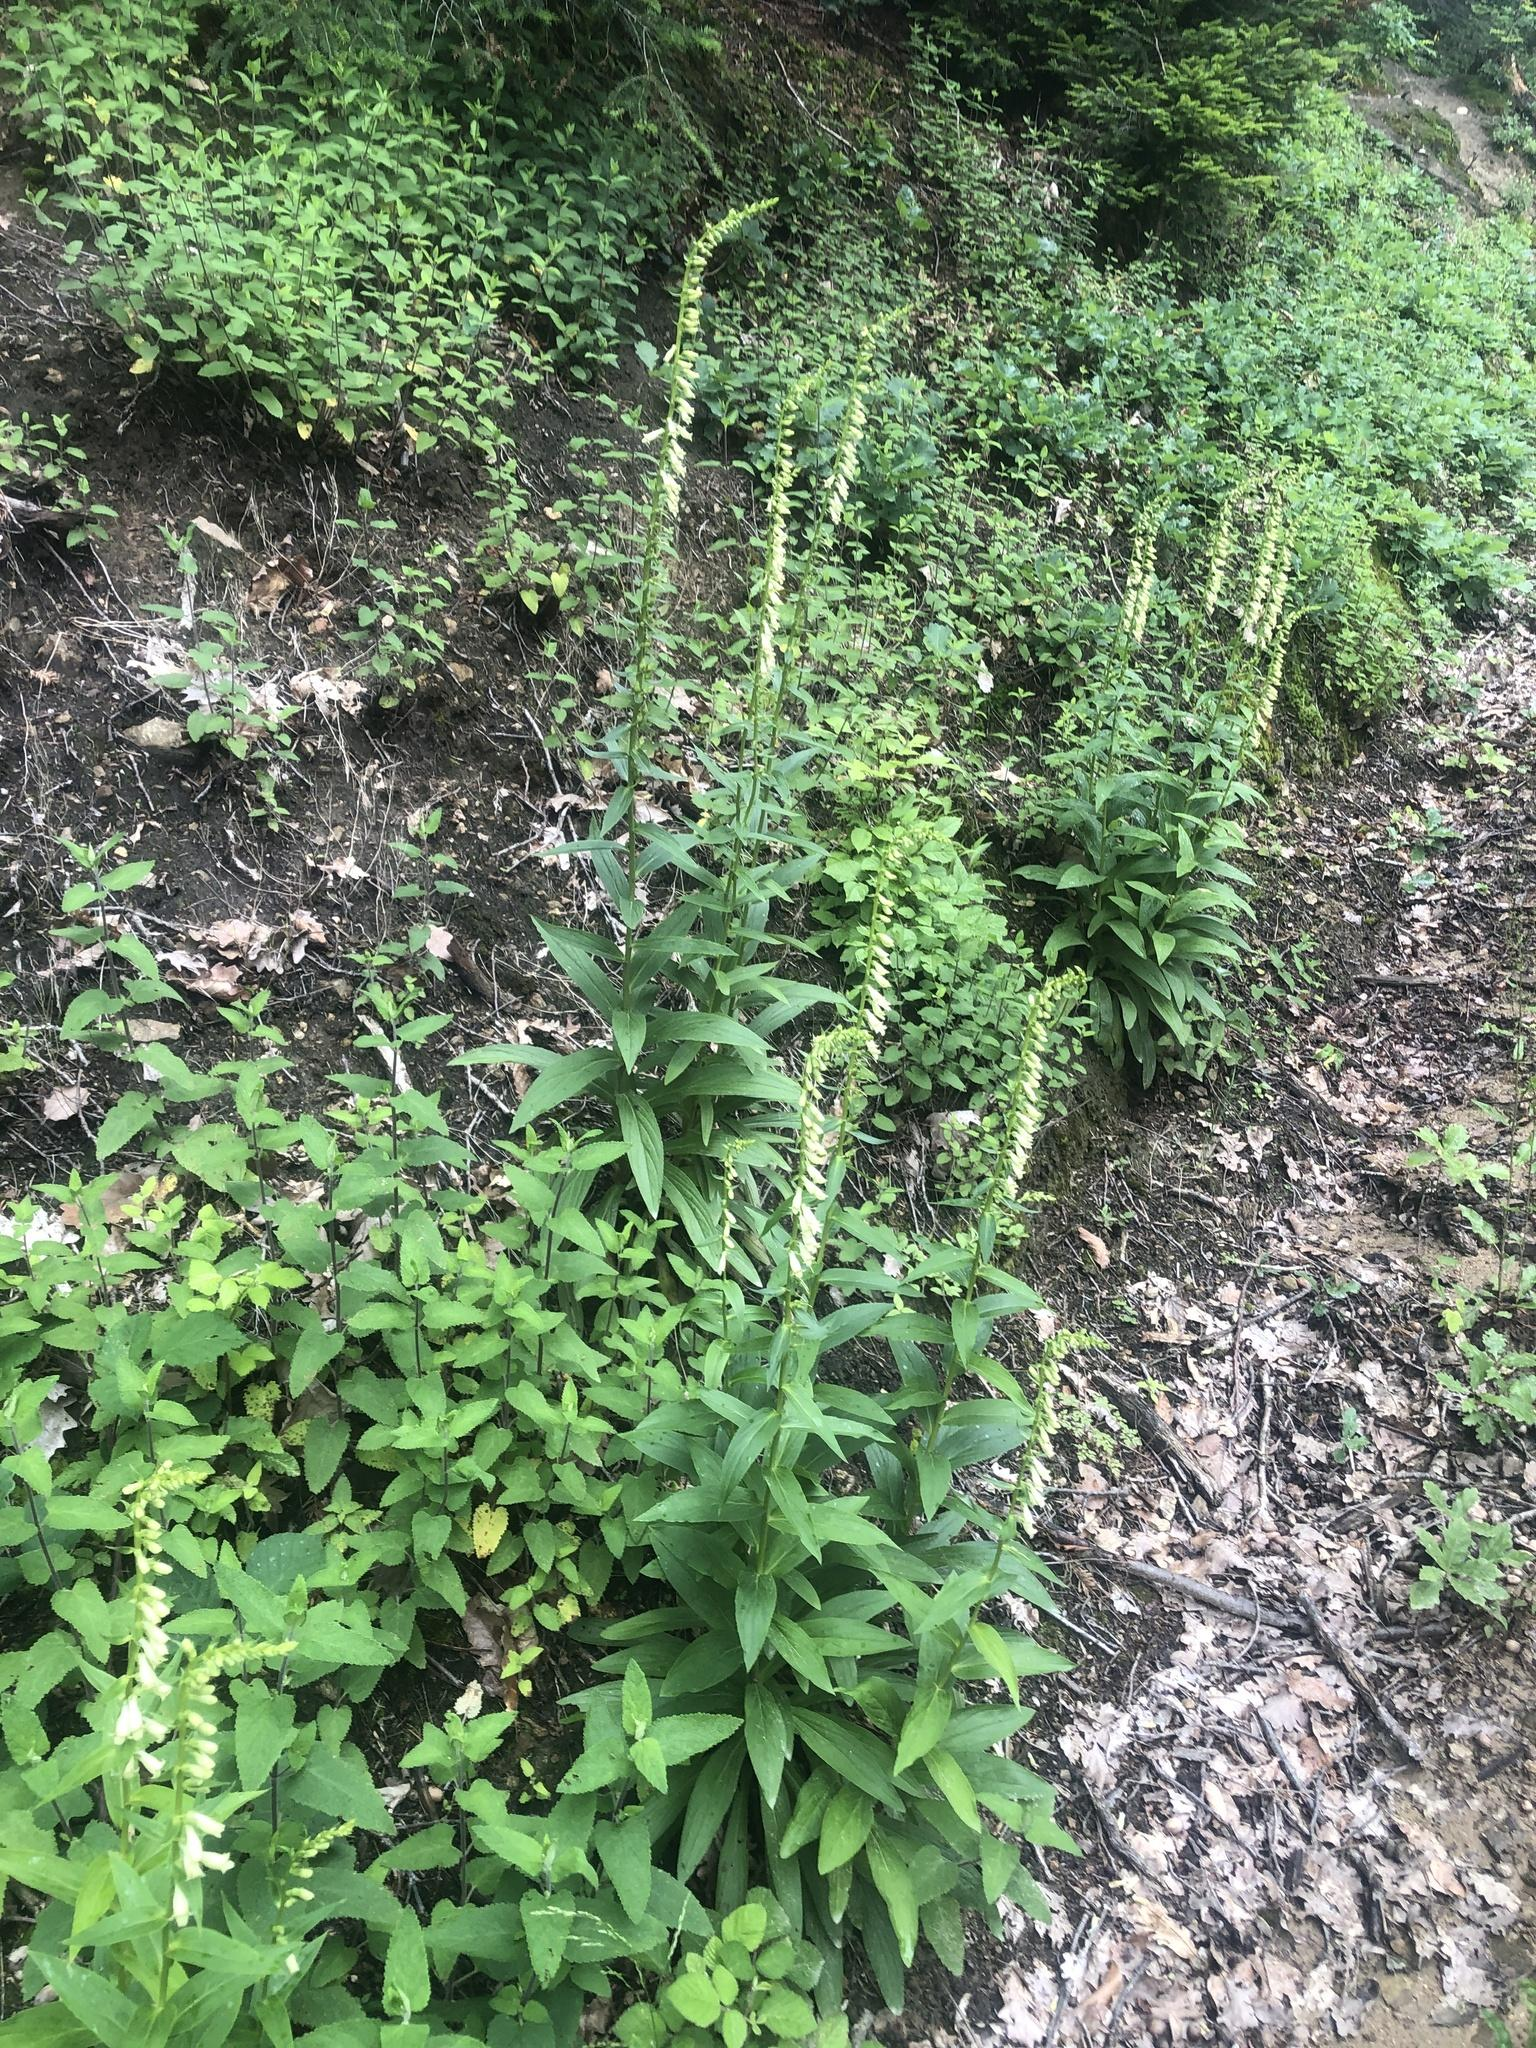Digitalis L: (515, 189, 812, 1198), (24, 1458, 319, 2048), (657, 1039, 874, 1838), (949, 1314, 1102, 1859), (1094, 502, 1312, 782), (920, 985, 1068, 1305), (810, 834, 921, 1259)
